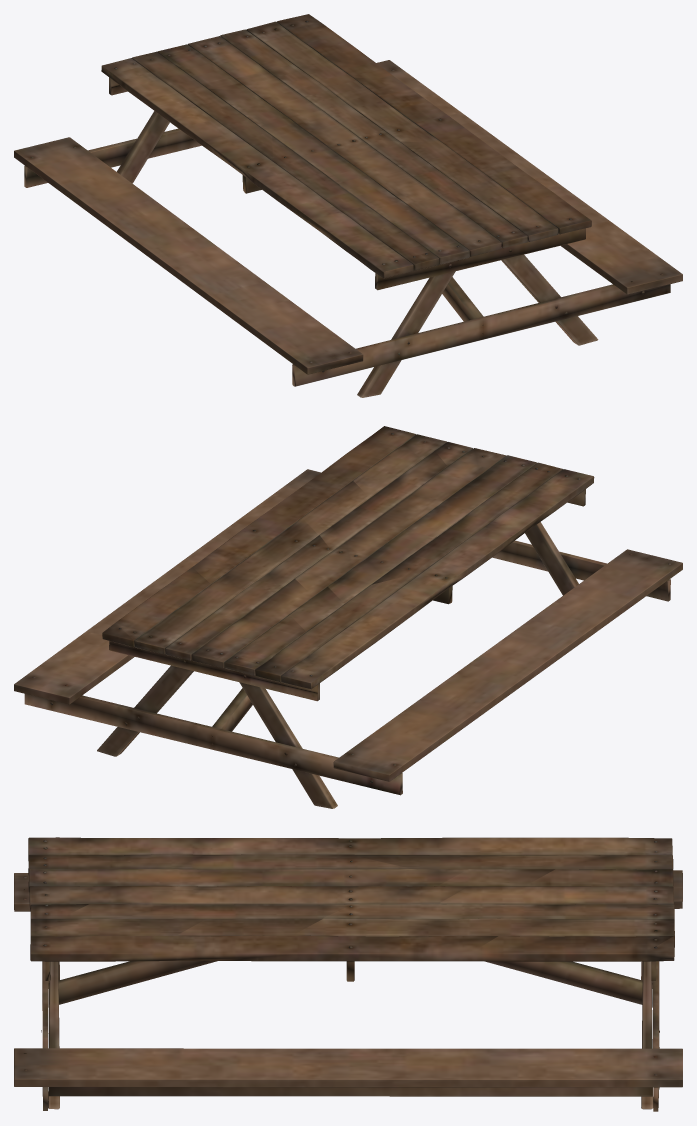
Rendered from picnic_table.glb.
3 views of the same model, one above another, from view 1: azimuth 30°, elevation 25°; view 2: azimuth 150°, elevation 25°; view 3: azimuth 270°, elevation 25° (orthographic). The views are drawn at different scales.
Visible parts, largest first — view 1: wooden_picnic_table; view 2: wooden_picnic_table; view 3: wooden_picnic_table.
Boxes of the visible parts, x1,y1,x2,y2 form: wooden_picnic_table: [14, 14, 682, 397]; wooden_picnic_table: [14, 426, 682, 808]; wooden_picnic_table: [14, 837, 682, 1111].
Size of the model in its own units: 2.24 by 0.746 by 3.02.
Materials: 2 (2 with a texture image).
